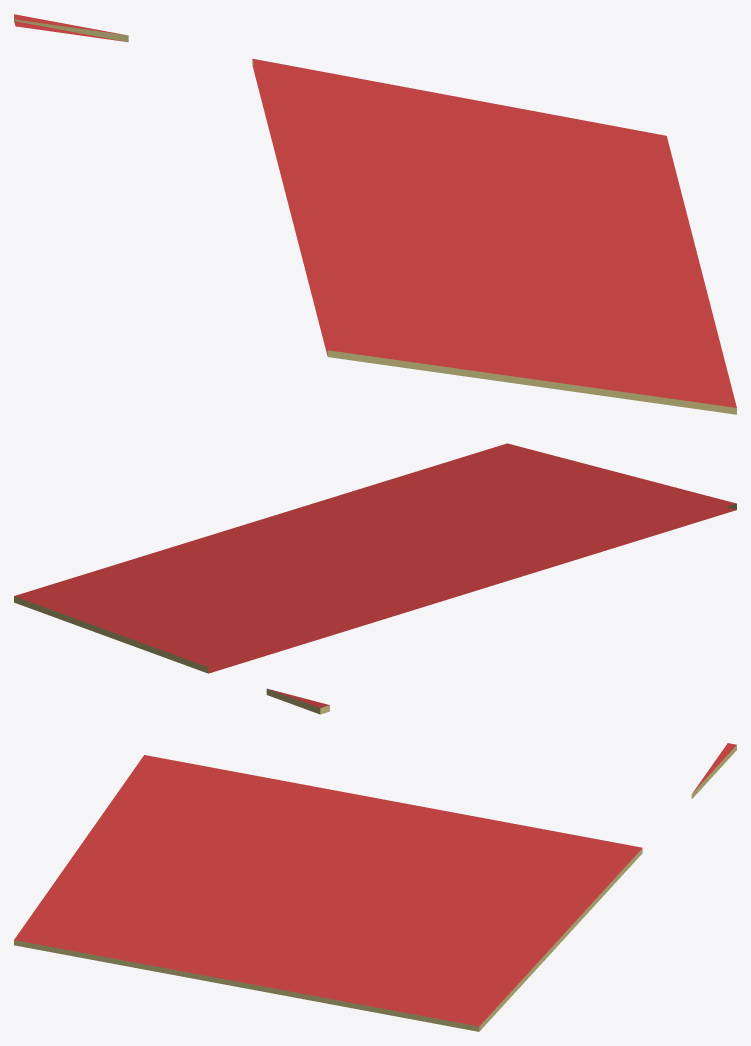
3 renders of one model, top to bottom at view 1: azimuth 30°, elevation 25°; view 2: azimuth 150°, elevation 25°; view 3: azimuth 270°, elevation 25°, orthographic. The views are drawn at different scales.
Bounding box in the file's own units: 8.48 × 12.24 × 1.87.
